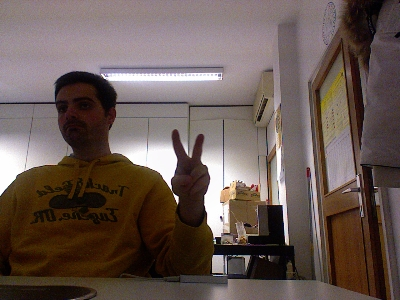剪刀: (169, 128, 210, 200)
